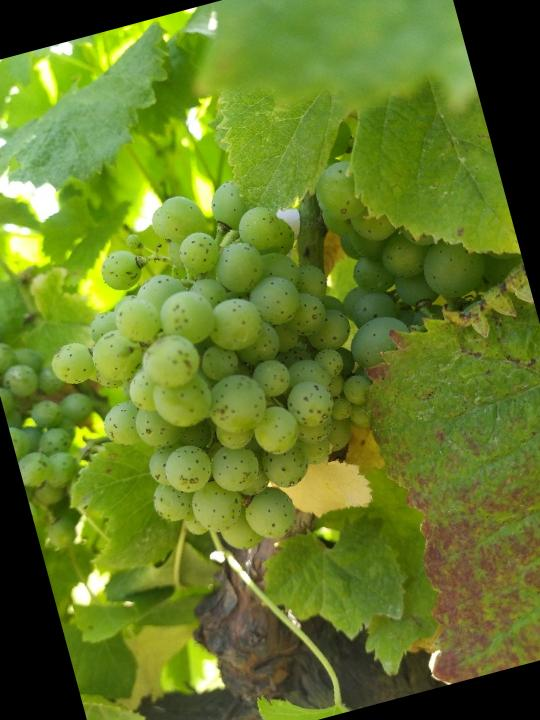grape: (17, 158, 407, 588)
